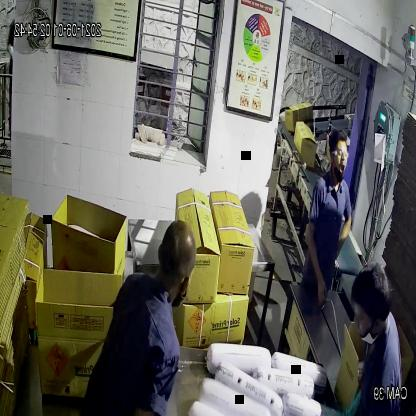goggles: (328, 144, 352, 165)
